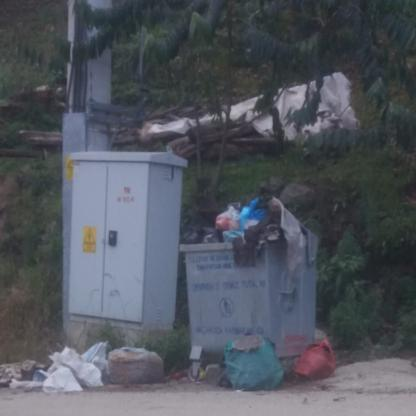Garbage: (176, 192, 327, 247), (270, 194, 324, 270), (107, 338, 183, 392), (228, 335, 286, 394), (37, 342, 93, 401), (51, 340, 104, 394), (294, 336, 346, 384), (48, 362, 80, 400), (236, 202, 264, 238), (212, 206, 246, 230), (184, 212, 208, 244)
